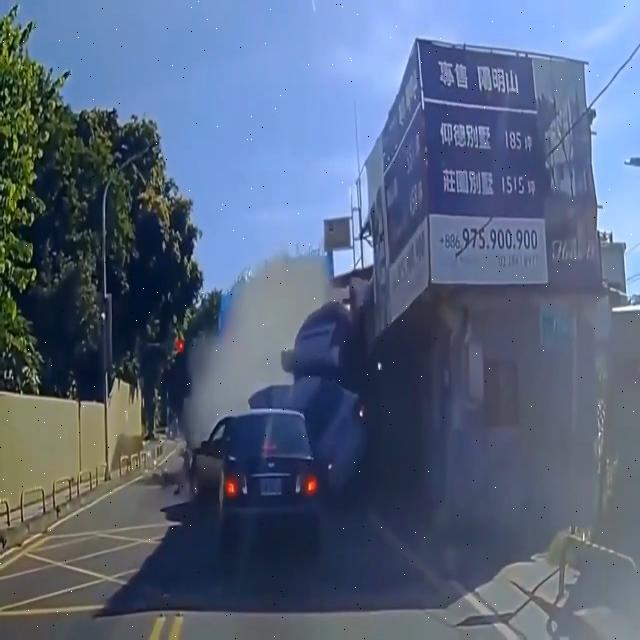accident: (174, 231, 384, 477)
